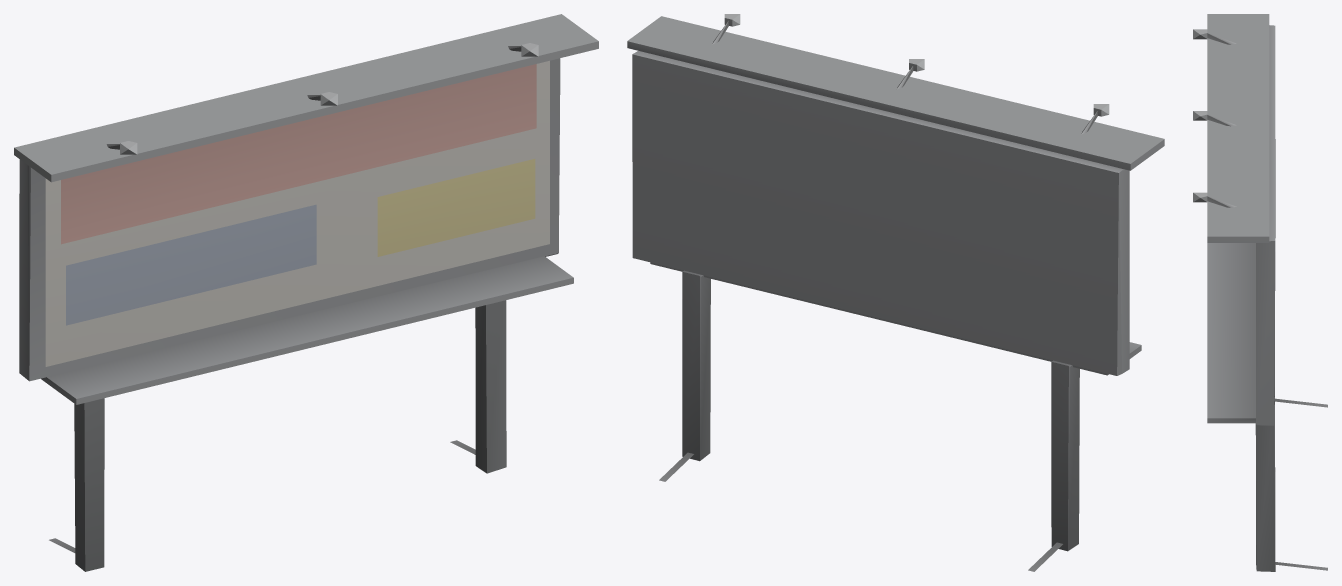
File: billboard.lod1.glb
3 renders of one model, left to right at view 1: azimuth 30°, elevation 25°; view 2: azimuth 150°, elevation 25°; view 3: azimuth 270°, elevation 25°, orthographic. The views are drawn at different scales.
Size of the model in its own units: 7.64 by 6 by 1.95.
